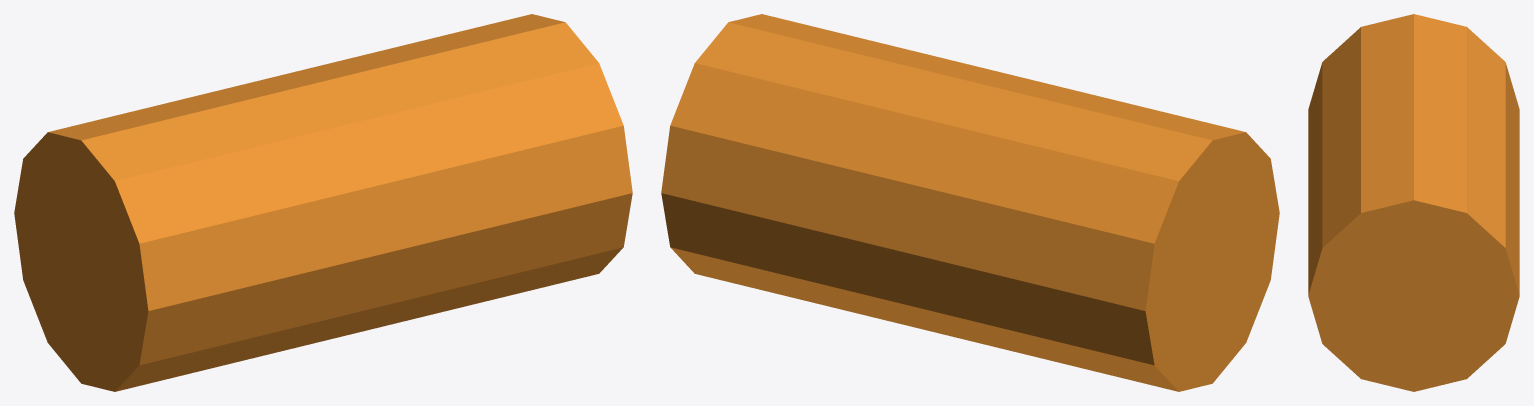
Rendered from SM_Proj_Shell.fbx.
3 renders of one model, left to right at view 1: azimuth 30°, elevation 25°; view 2: azimuth 150°, elevation 25°; view 3: azimuth 270°, elevation 25°, orthographic. The views are drawn at different scales.
Visible parts, largest first — view 1: SM_Proj_Shell; view 2: SM_Proj_Shell; view 3: SM_Proj_Shell.
Boxes of the visible parts, left/top/right/bottom form: SM_Proj_Shell: left=14, top=14, right=632, bottom=391; SM_Proj_Shell: left=661, top=14, right=1279, bottom=391; SM_Proj_Shell: left=1308, top=14, right=1519, bottom=391.
Size of the model in its own units: 7.5 by 3.6 by 3.6.
